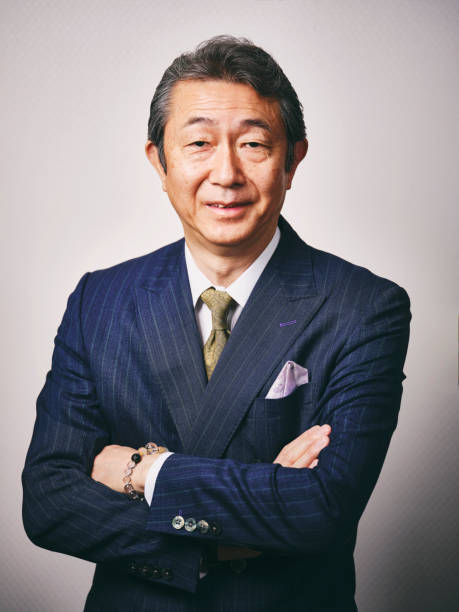person: (143, 36, 311, 250)
